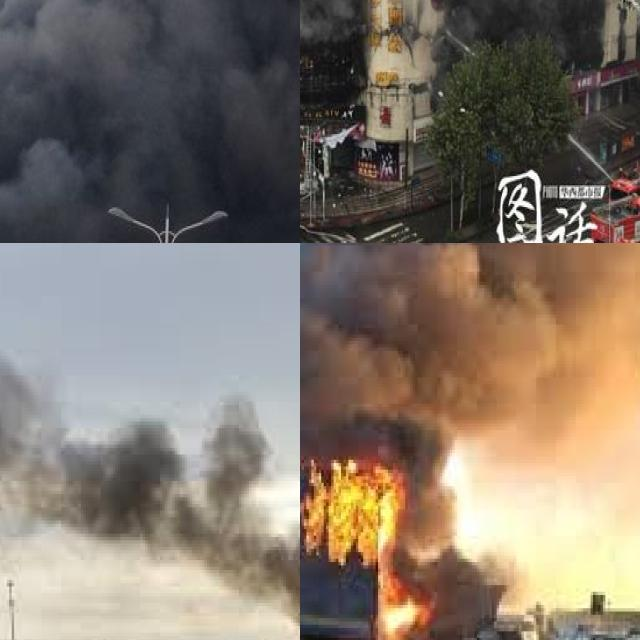fire: (300, 443, 435, 640)
smoke: (300, 243, 640, 542), (0, 352, 300, 640), (0, 0, 300, 243)
